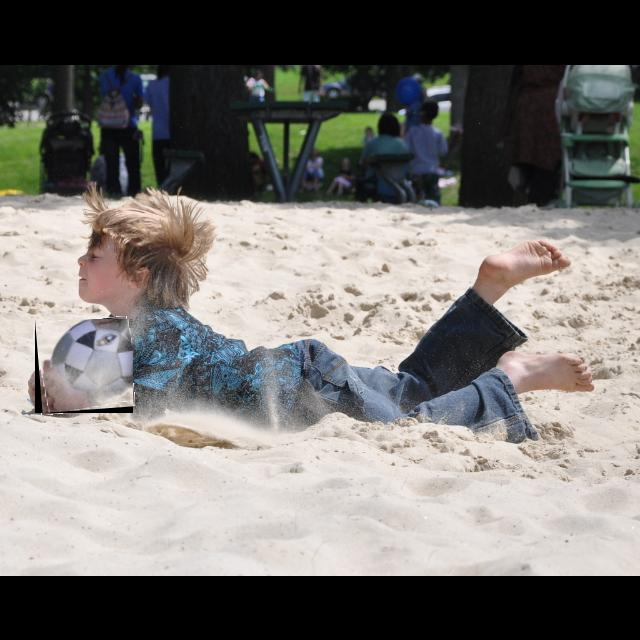Football: (35, 319, 133, 413)
